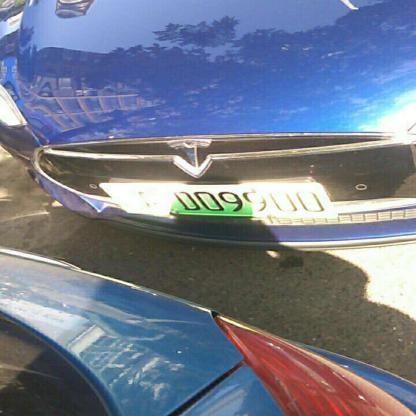lp: (98, 182, 336, 217)
